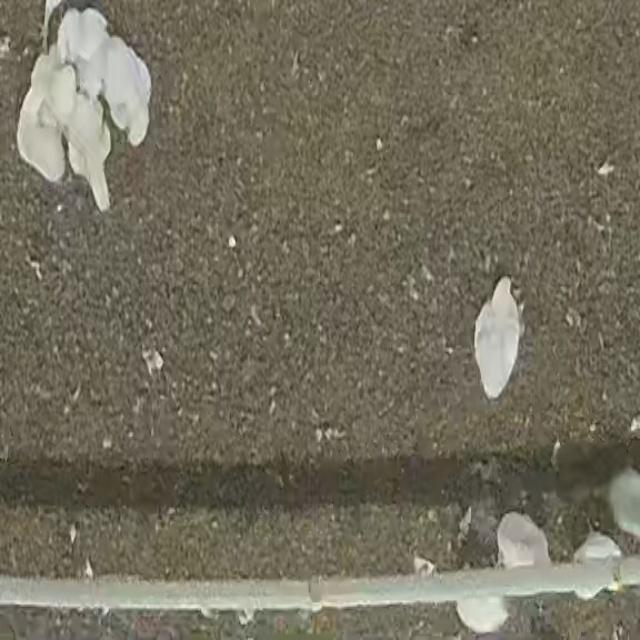chicken: (472, 272, 524, 406), (104, 33, 158, 154)
